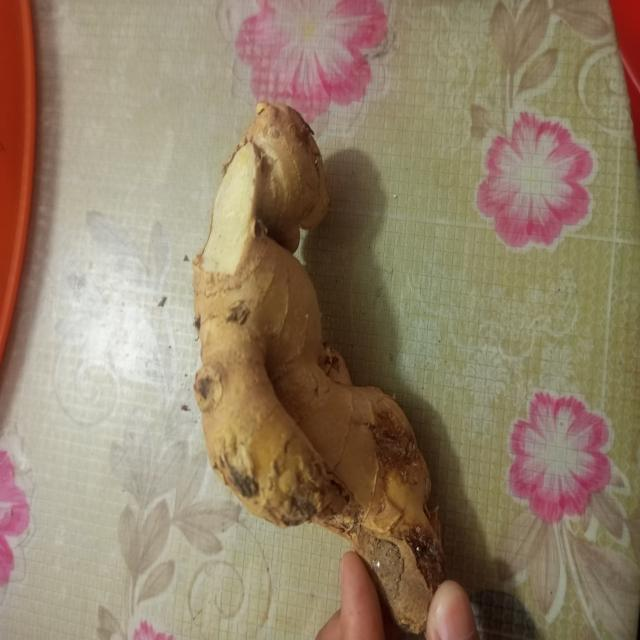ginger: (201, 102, 435, 580)
